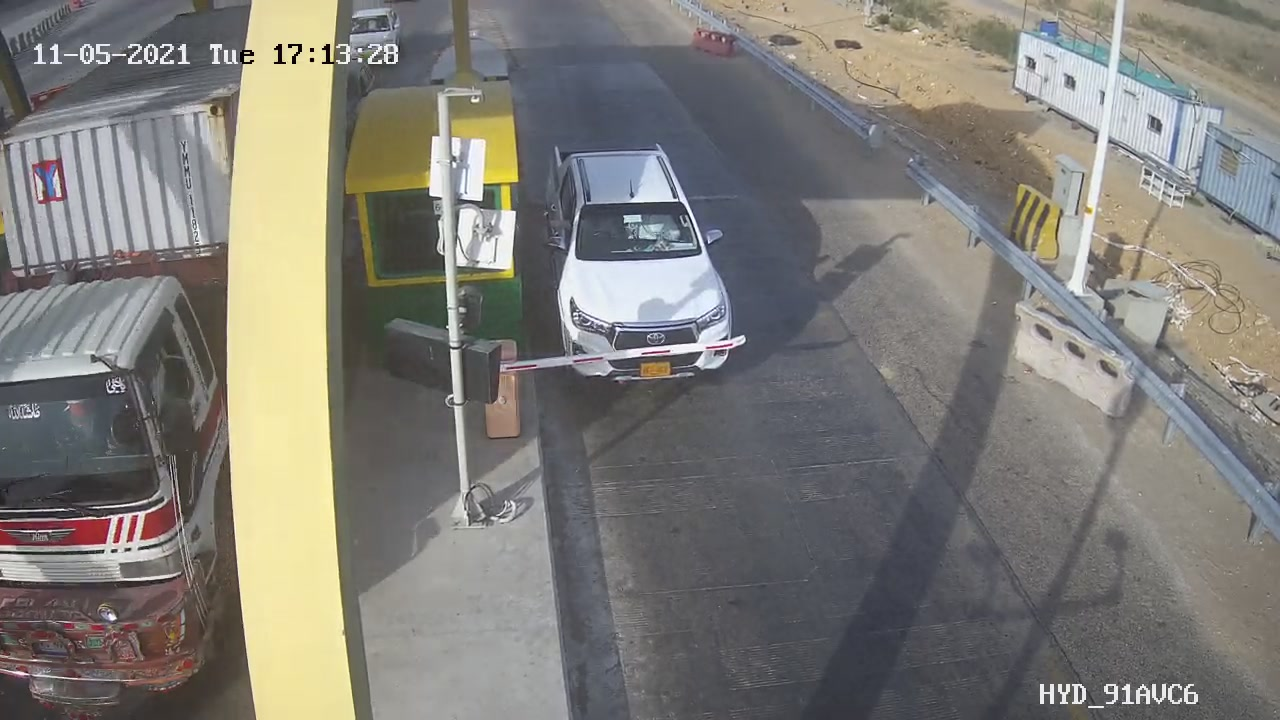F1: (521, 124, 755, 407)
